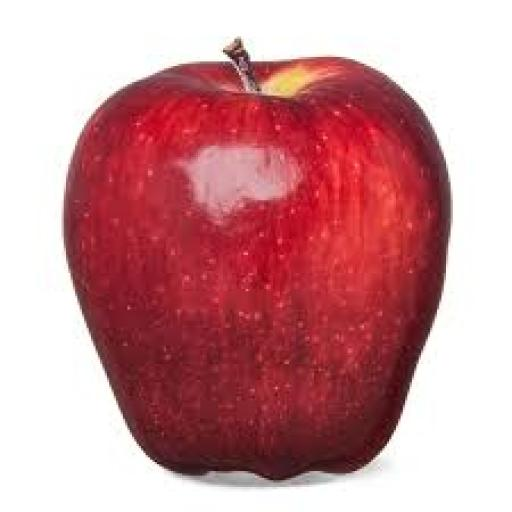Apple: (64, 44, 450, 477)
